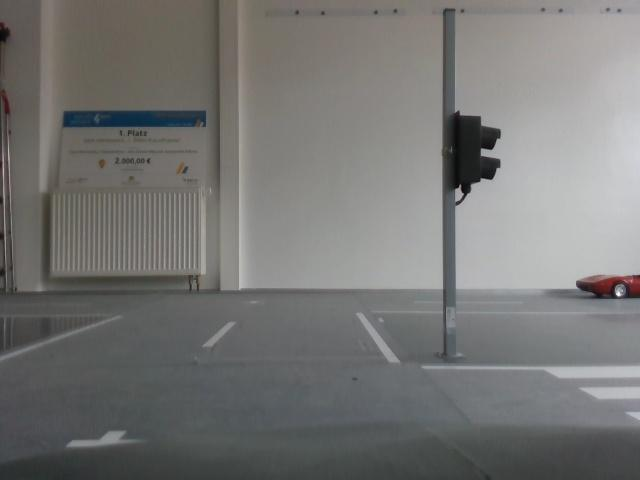car: (576, 261, 640, 307)
traffic light: (444, 107, 506, 193)
